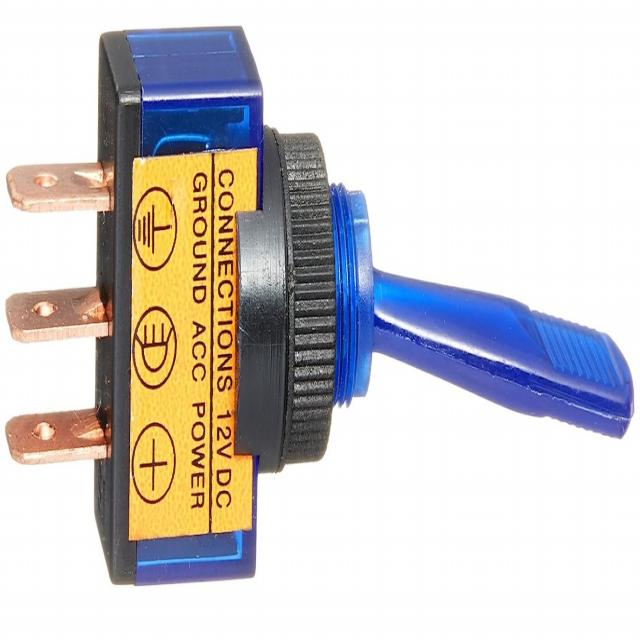toggle switch: (274, 128, 634, 471)
